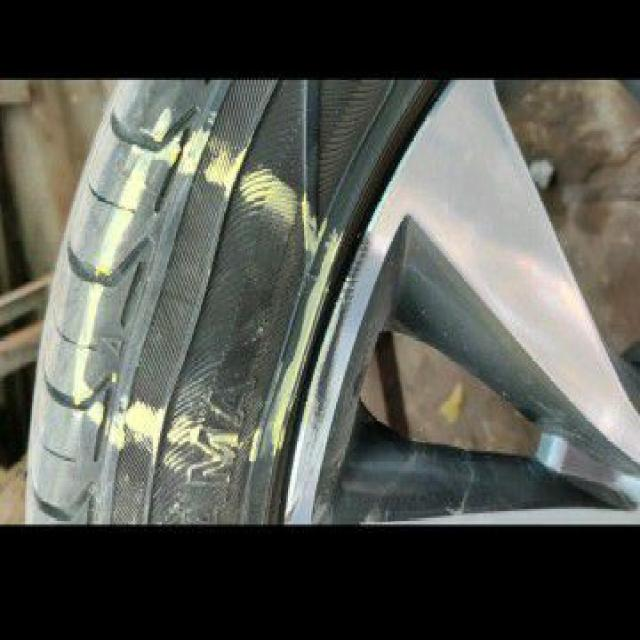Bulge: (161, 218, 299, 400)
